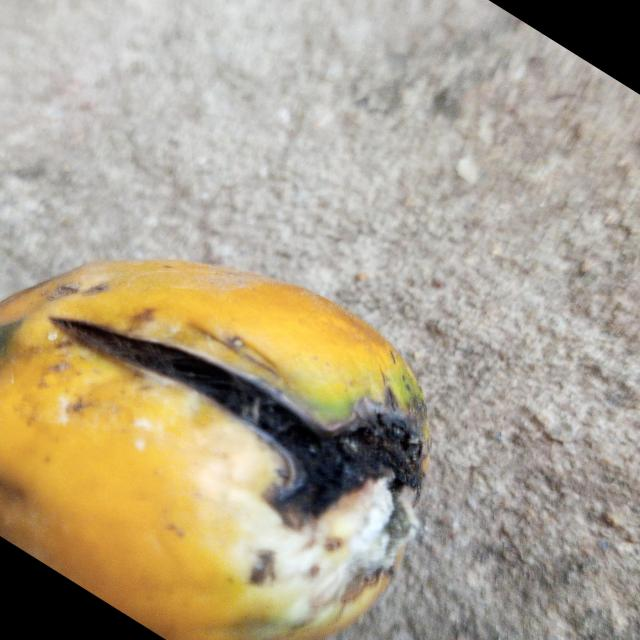damaged: (0, 260, 429, 640)
